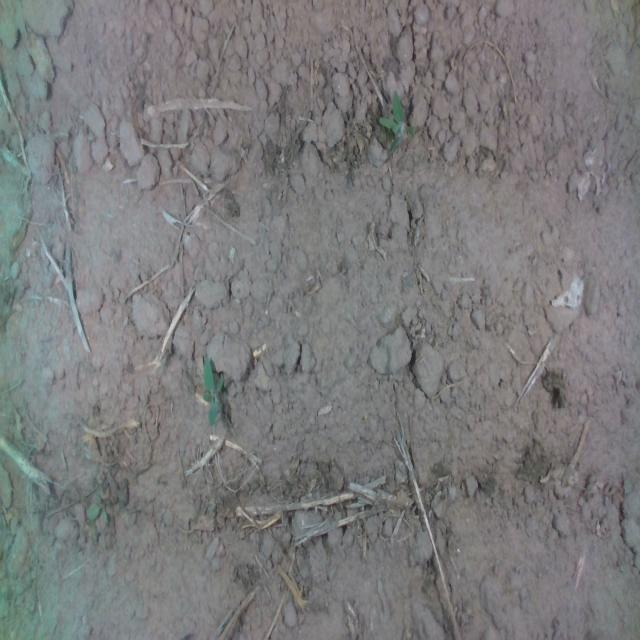weed: (378, 86, 415, 156), (200, 353, 223, 427)
